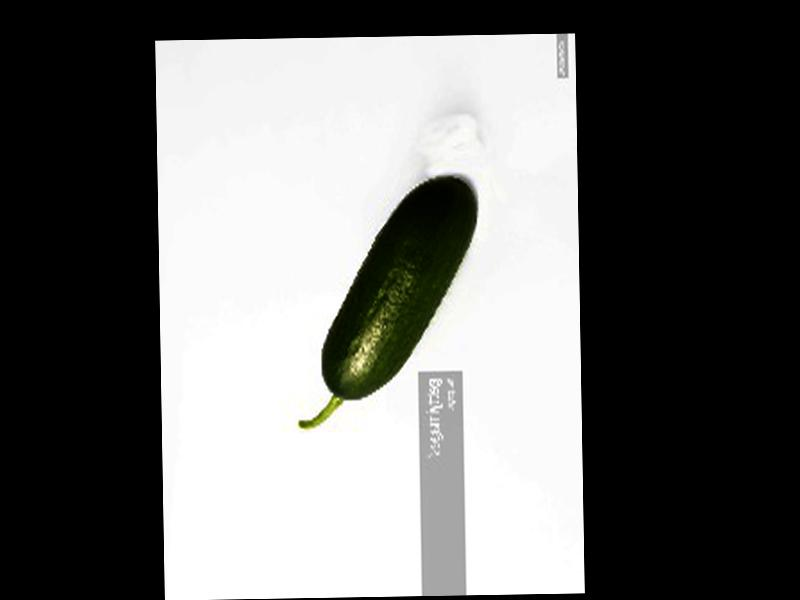Cucumber: (296, 178, 482, 433)
